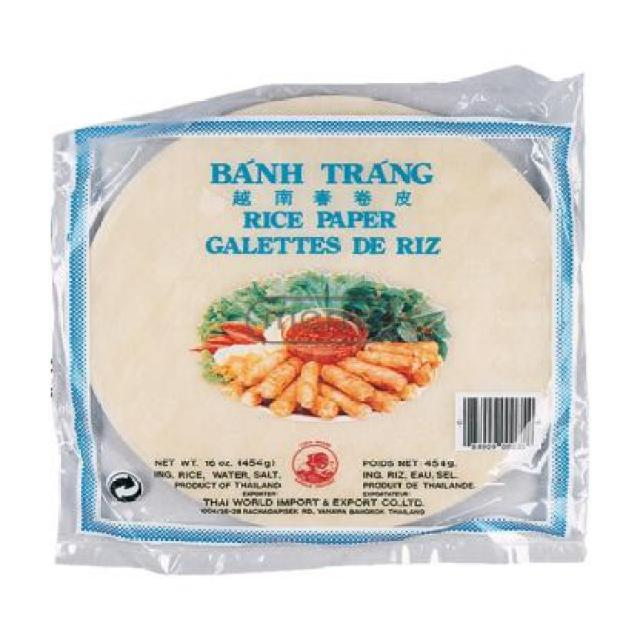Gallette di riso: (45, 57, 592, 580)
